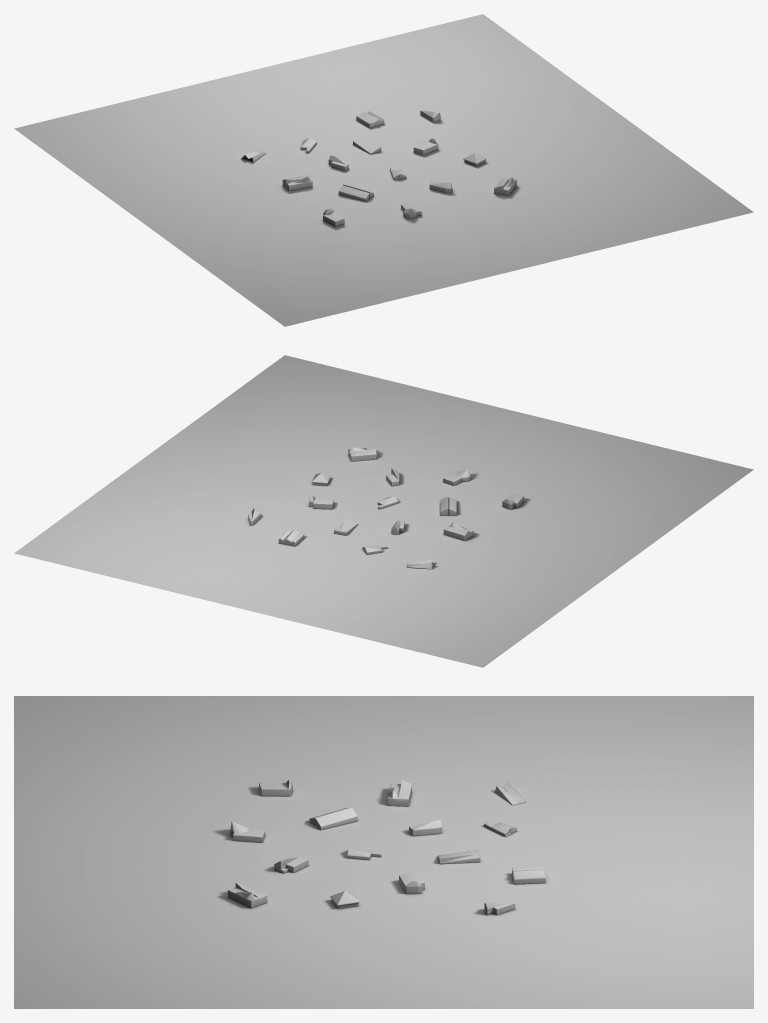
File: houses_smooth_edge.gltf
The picture shows the model from 3 angles, top to bottom: view 1: azimuth 30°, elevation 25°; view 2: azimuth 150°, elevation 25°; view 3: azimuth 270°, elevation 25°; orthographic projection. The views are drawn at different scales.
Parts seen in each view (by area): view 1: Plane001; view 2: Plane001; view 3: Plane001.
Boxes of the visible parts, x1=… form: Plane001: x1=14, y1=14, x2=753, y2=326; Plane001: x1=14, y1=355, x2=753, y2=667; Plane001: x1=14, y1=696, x2=753, y2=1008.
Bounding box in the file's own units: 13.87 × 0.2776 × 13.87.
Materials: 1 (1 with a texture image).
